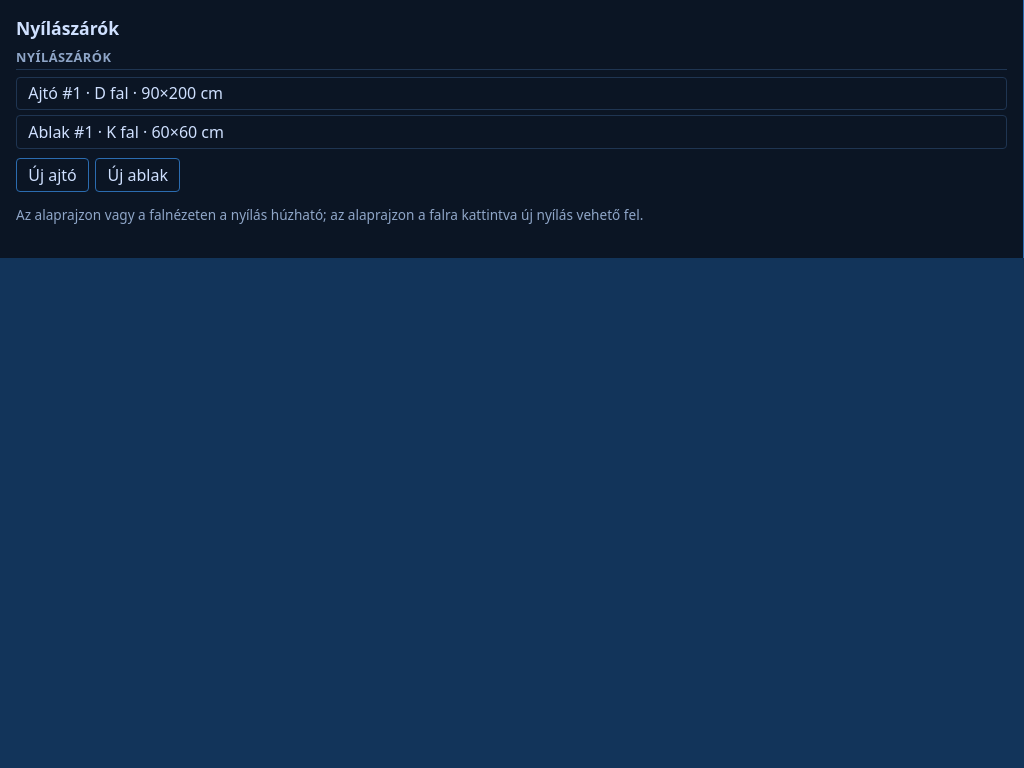
Test: numeric field converts cm to mm, bad text is flagged and not stored
The width and height of the screenshot is (1024, 768).
Click the button "Ajtó #1 · D fal · 90×200 cm".
click(126, 93)  # box [17, 78, 1006, 109]
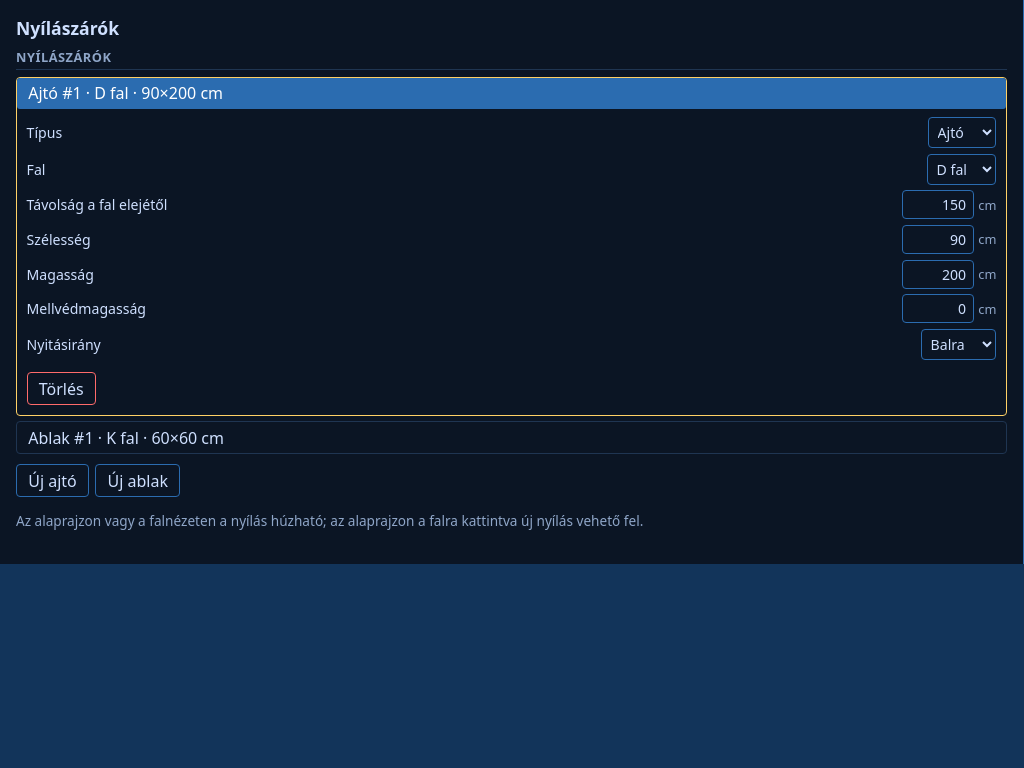
Replace the text in the field labelled "Szélesség cm" with "80,5" at (938, 240), box [902, 225, 974, 254]
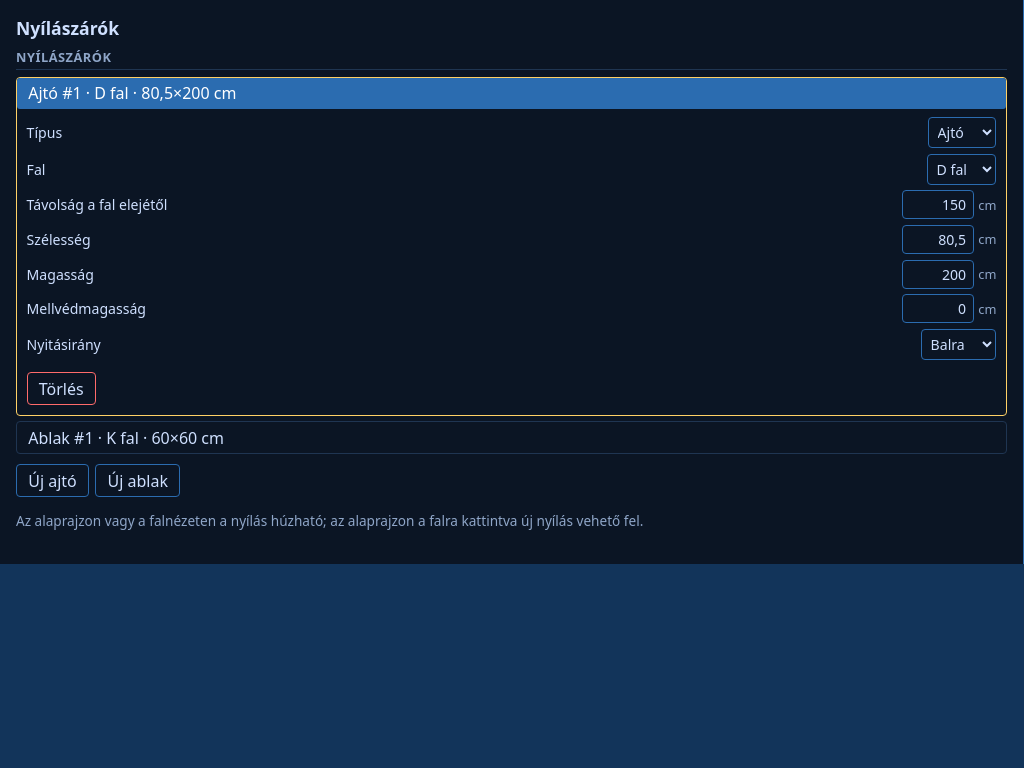
Replace the text in the field labelled "Szélesség cm" with "abc" at (938, 240), box [902, 225, 974, 254]
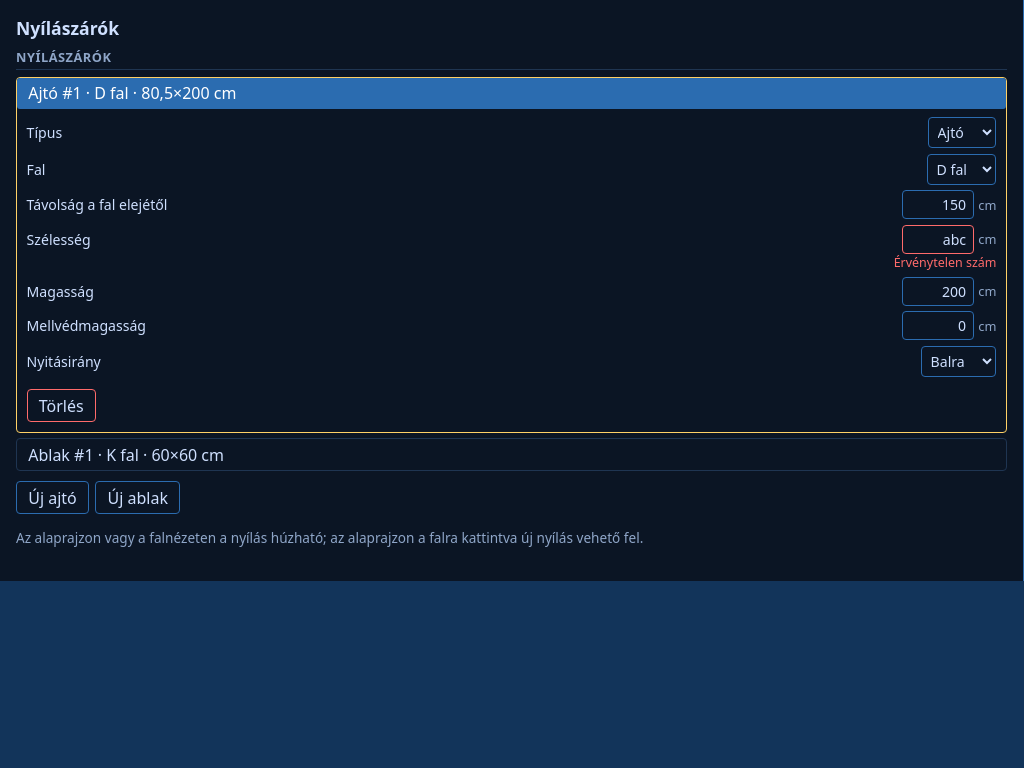
Check: the text "Érvénytelen szám" is shown, box [894, 254, 996, 271]
